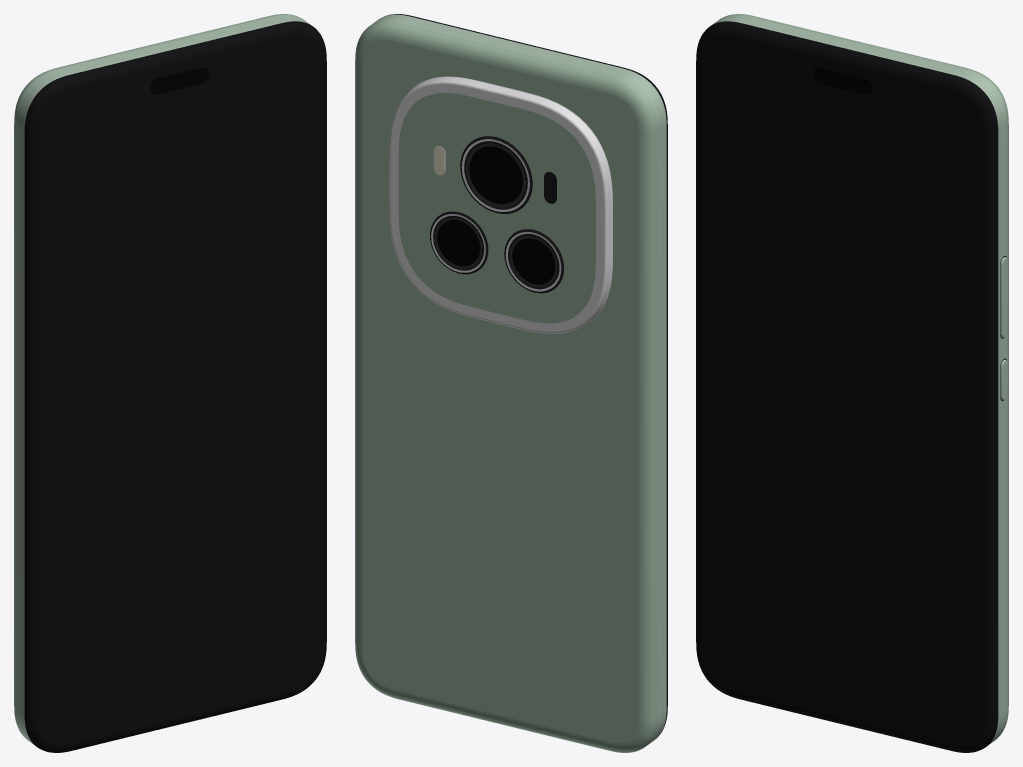
File: honor-magic6-pro.glb
3 views of the same model, side by side, from view 1: azimuth 30°, elevation 25°; view 2: azimuth 150°, elevation 25°; view 3: azimuth 330°, elevation 25° (orthographic).
Parts seen in each view (by area): view 1: body, punch; view 2: body, camera; view 3: body, buttons, punch.
Boxes of the visible parts, left/top/right/bottom form: body: left=14, top=14, right=326, bottom=752; punch: left=150, top=67, right=209, bottom=94; body: left=355, top=14, right=667, bottom=752; camera: left=389, top=76, right=612, bottom=333; body: left=696, top=14, right=1008, bottom=752; buttons: left=1000, top=256, right=1007, bottom=400; punch: left=813, top=67, right=872, bottom=94.
Size of the model in its own units: 76.23 by 163 by 11.72.
